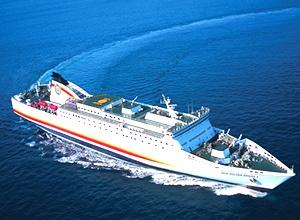youlun: (13, 65, 296, 189)
